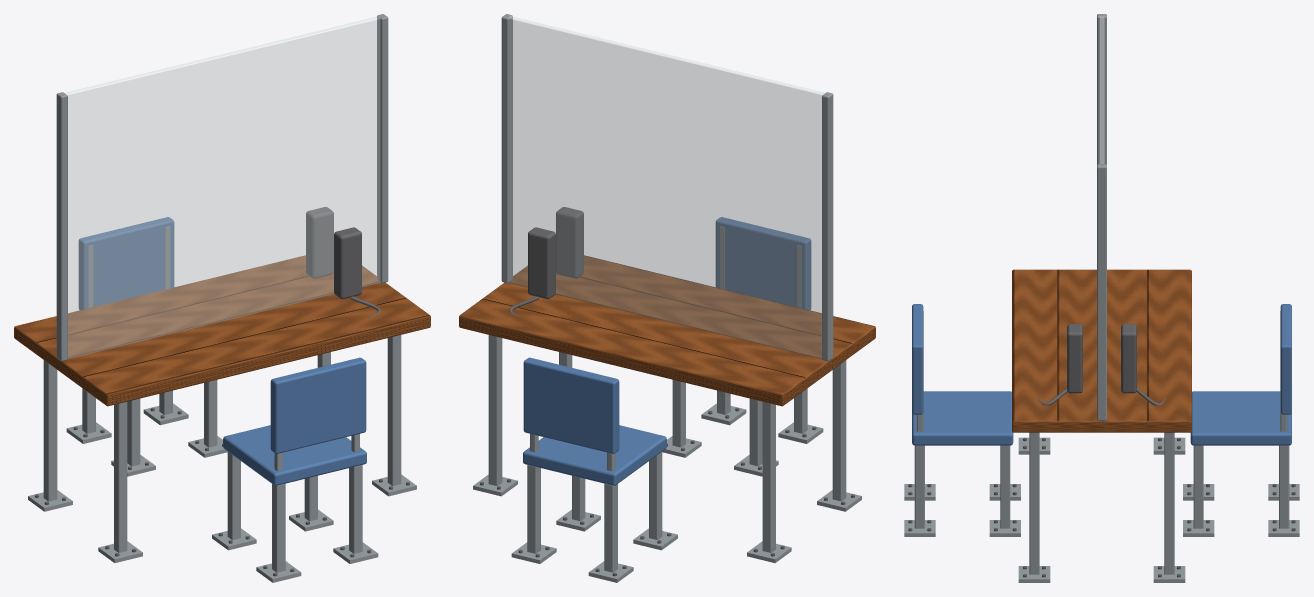
The model's file is prison-complex-builder-visitation-booth-e5de8ff5__25676.glb.
The picture shows the model from 3 angles, left to right: view 1: azimuth 30°, elevation 25°; view 2: azimuth 150°, elevation 25°; view 3: azimuth 270°, elevation 25°; orthographic projection. The views are drawn at different scales.
Parts seen in each view (by area): view 1: visitation-booth; view 2: visitation-booth; view 3: visitation-booth.
Boxes of the visible parts, x1,y1,x2,y2 form: visitation-booth: (14, 14, 430, 582); visitation-booth: (459, 14, 875, 582); visitation-booth: (904, 14, 1299, 582).
Bounding box in the file's own units: 1.62 × 2.07 × 1.76.
5 materials, 1 textured.
